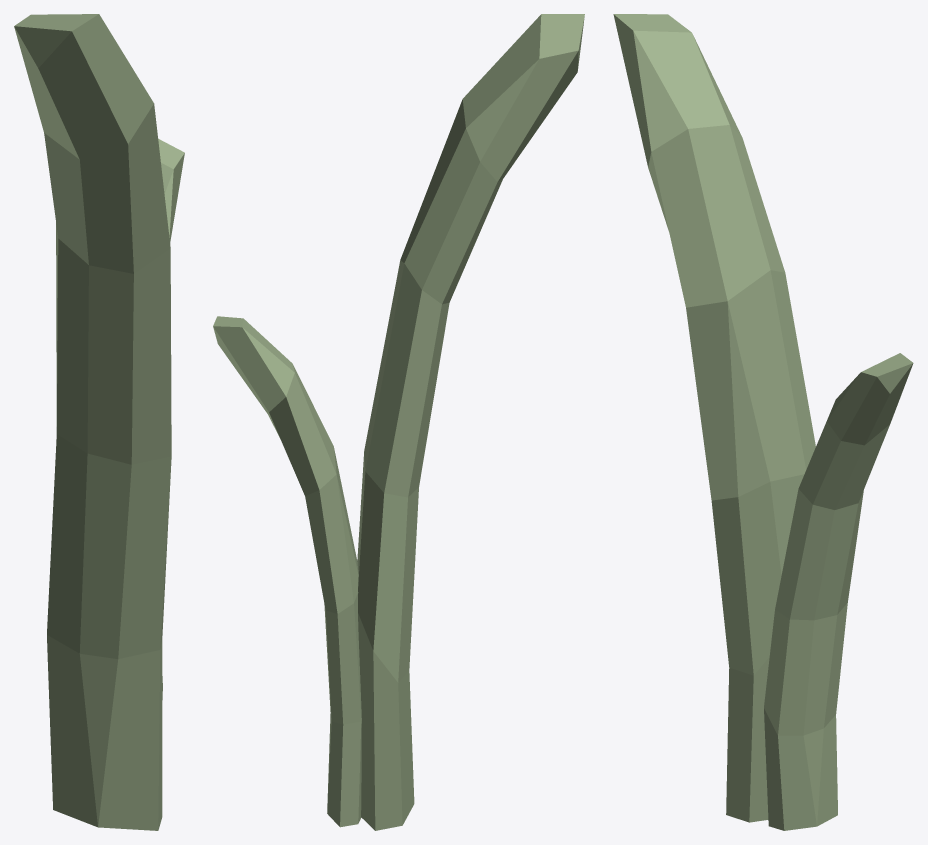
Rendered from EA_Swamp_Grass_02b.glb.
3 views of the same model, side by side, from view 1: azimuth 30°, elevation 25°; view 2: azimuth 150°, elevation 25°; view 3: azimuth 270°, elevation 25° (orthographic). The views are drawn at different scales.
Visible parts, largest first — view 1: EA_Swamp_Grass_02b; view 2: EA_Swamp_Grass_02b; view 3: EA_Swamp_Grass_02b.
Boxes of the visible parts, left/top/right/bottom form: EA_Swamp_Grass_02b: left=14, top=14, right=184, bottom=830; EA_Swamp_Grass_02b: left=213, top=14, right=584, bottom=830; EA_Swamp_Grass_02b: left=613, top=14, right=913, bottom=830.
Size of the model in its own units: 0.3947 by 1.13 by 0.4155.
Materials: 1 (1 with a texture image).
